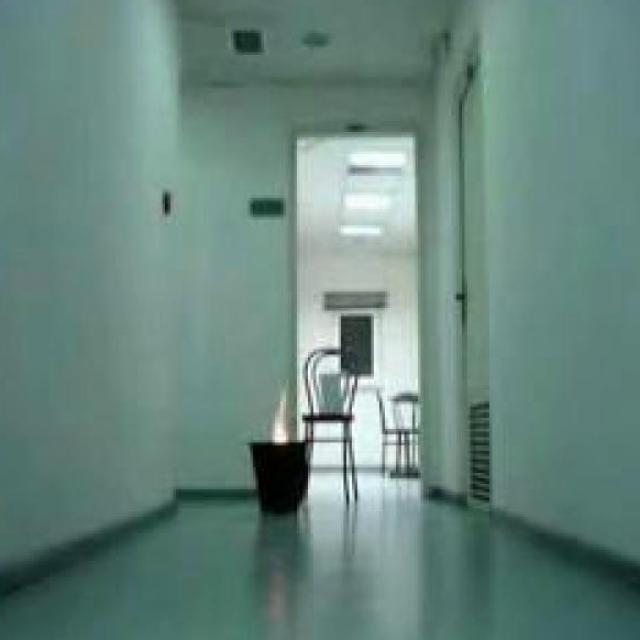Fire: (264, 389, 292, 444)
